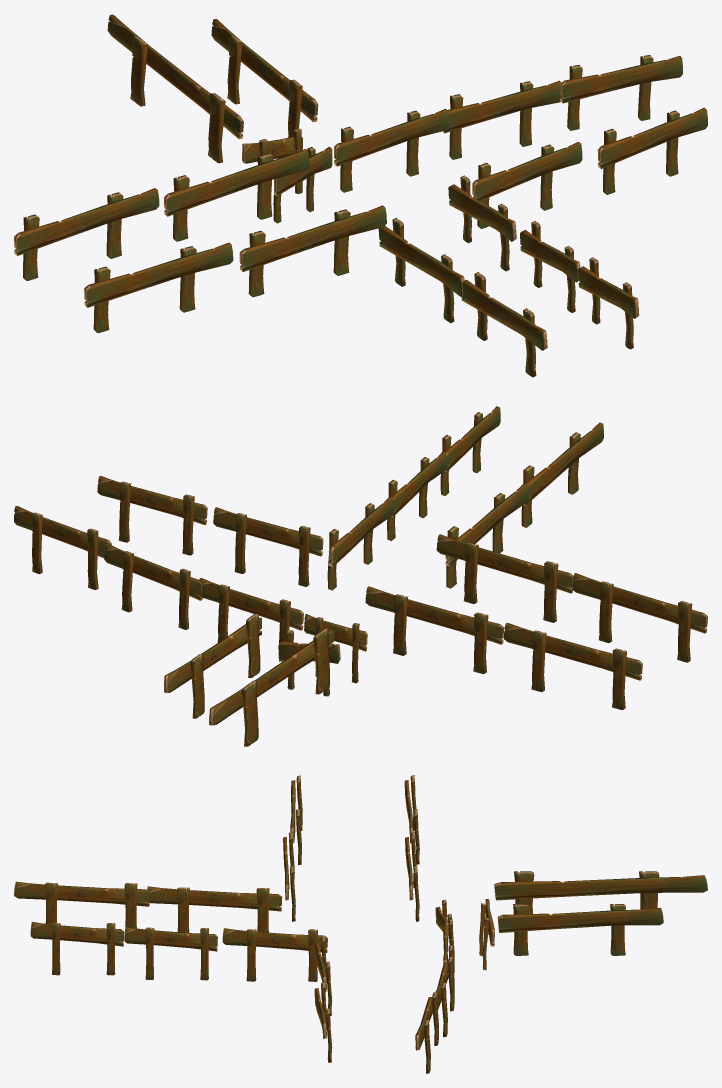
The model's file is Block.fbx.
The picture shows the model from 3 angles, top to bottom: view 1: azimuth 30°, elevation 25°; view 2: azimuth 150°, elevation 25°; view 3: azimuth 270°, elevation 25°; orthographic projection. The views are drawn at different scales.
Parts seen in each view (by area): view 1: Box014_Material #31_91; view 2: Box014_Material #31_91; view 3: Box014_Material #31_91.
Part boxes in pixels (x1,y1,x2,y2): Box014_Material #31_91: [14, 14, 707, 377]; Box014_Material #31_91: [14, 406, 707, 746]; Box014_Material #31_91: [14, 775, 707, 1073].
Size of the model in its own units: 177 by 23.47 by 196.
